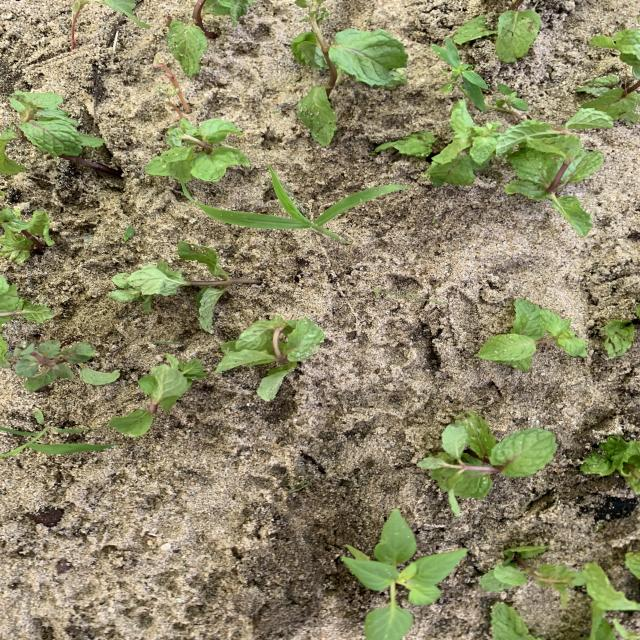crop: (292, 2, 406, 145), (419, 413, 556, 515), (108, 242, 257, 331), (501, 125, 603, 234), (217, 317, 323, 399), (1, 92, 103, 172), (109, 355, 207, 435), (477, 299, 587, 370), (566, 29, 639, 126), (146, 118, 249, 185), (427, 101, 502, 186), (168, 1, 254, 75), (481, 546, 585, 607), (454, 1, 540, 62), (583, 561, 639, 639), (581, 436, 639, 494), (1, 209, 54, 263), (1, 276, 53, 329), (604, 305, 639, 358), (492, 603, 540, 639), (493, 83, 527, 115)
weed: (341, 510, 466, 640), (195, 166, 403, 240), (14, 341, 119, 392), (432, 39, 487, 110), (0, 426, 113, 458), (495, 84, 527, 115), (3, 208, 20, 219), (124, 226, 134, 241), (155, 339, 177, 344), (375, 287, 382, 299)
